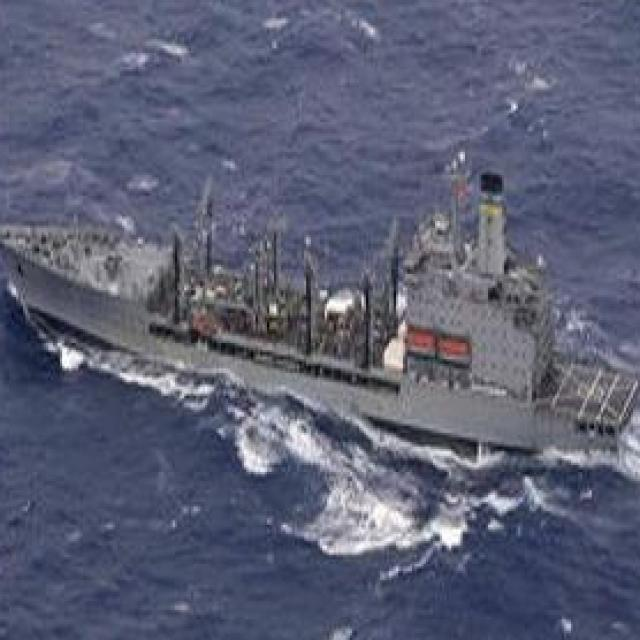navalvessels: (0, 168, 640, 449)
